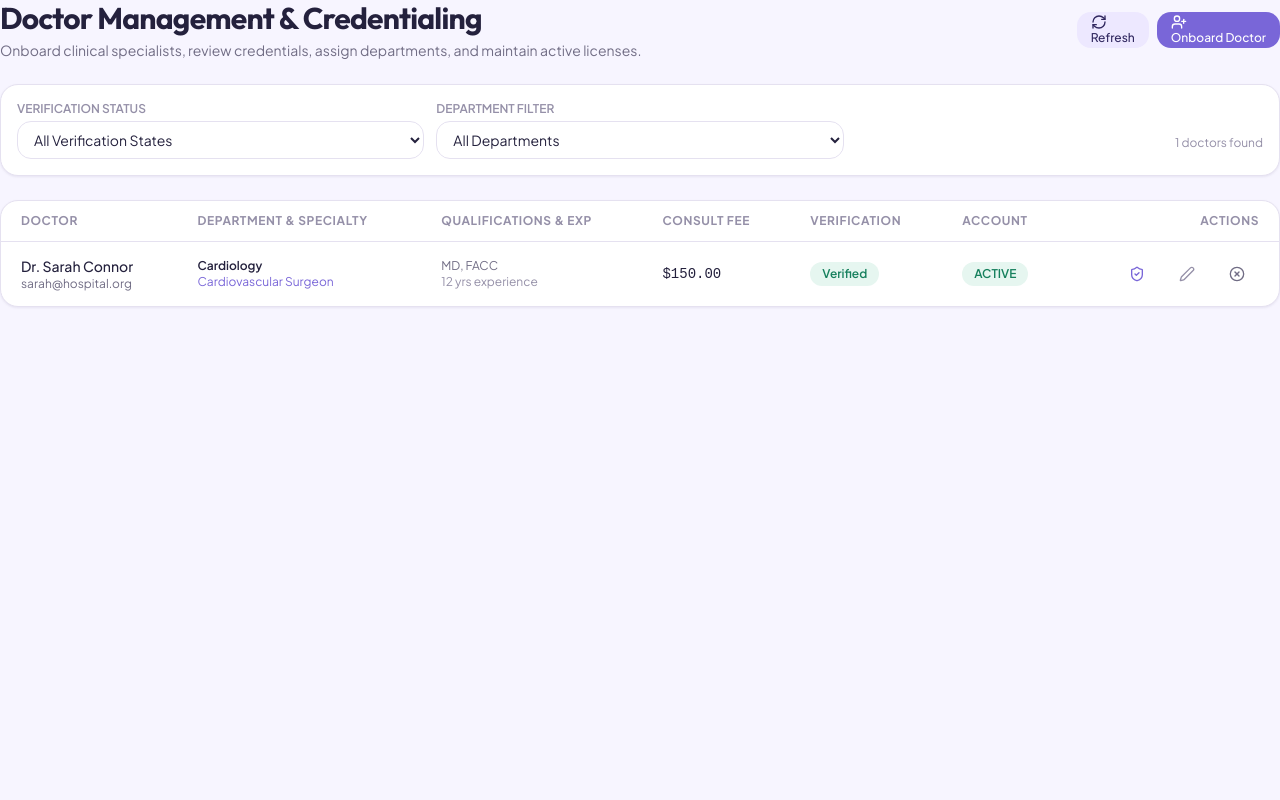
it: Phase 3: Admin Dashboard & Operational Console Tests › renders doctor management and opens doctor onboarding dialog
Expected: the heading "Doctor Management & Credentialing" is shown, [0, 0, 482, 37]
Expected: the text "Dr. Sarah Connor" is shown, [21, 257, 133, 275]
Open onboard modal
Click the button "Onboard Doctor" at {"x": 1218, "y": 30}, box [1157, 12, 1279, 48]
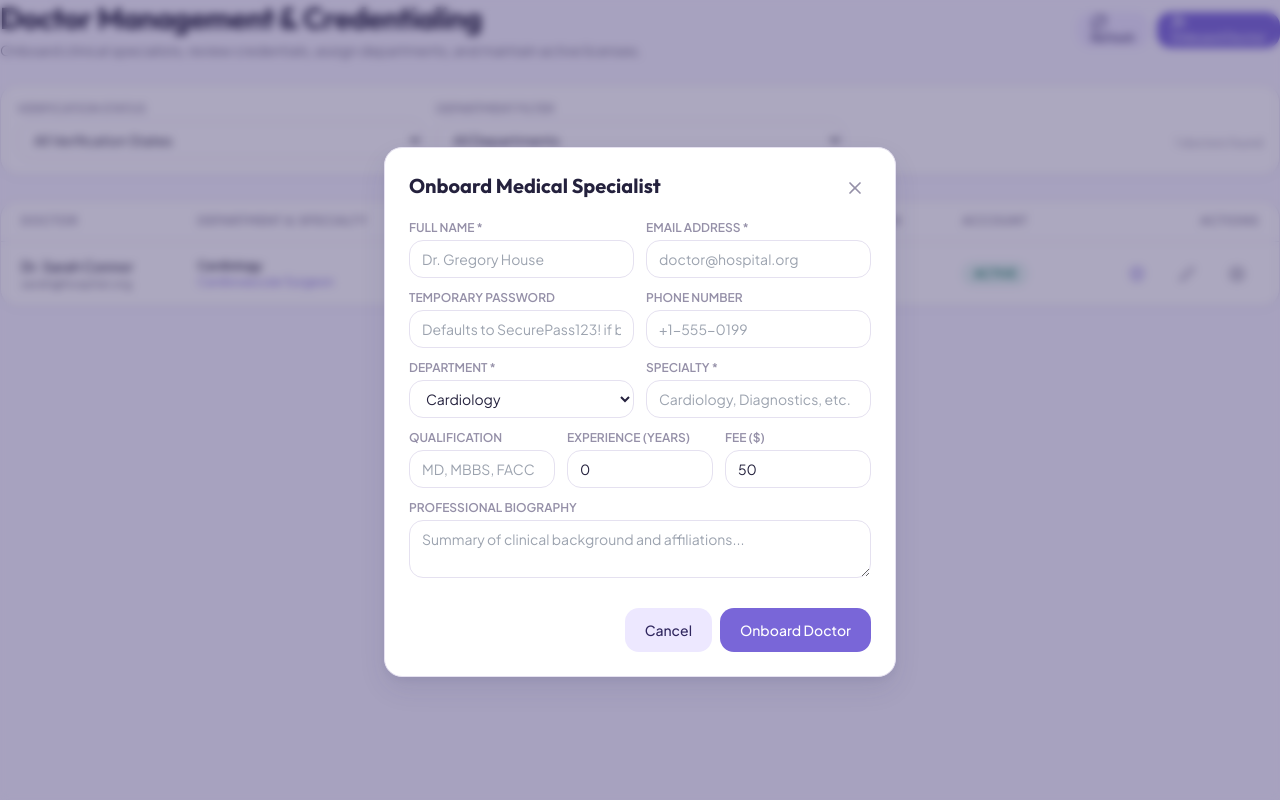
Result: the heading "Onboard Medical Specialist" is shown at [409, 172, 661, 200]
